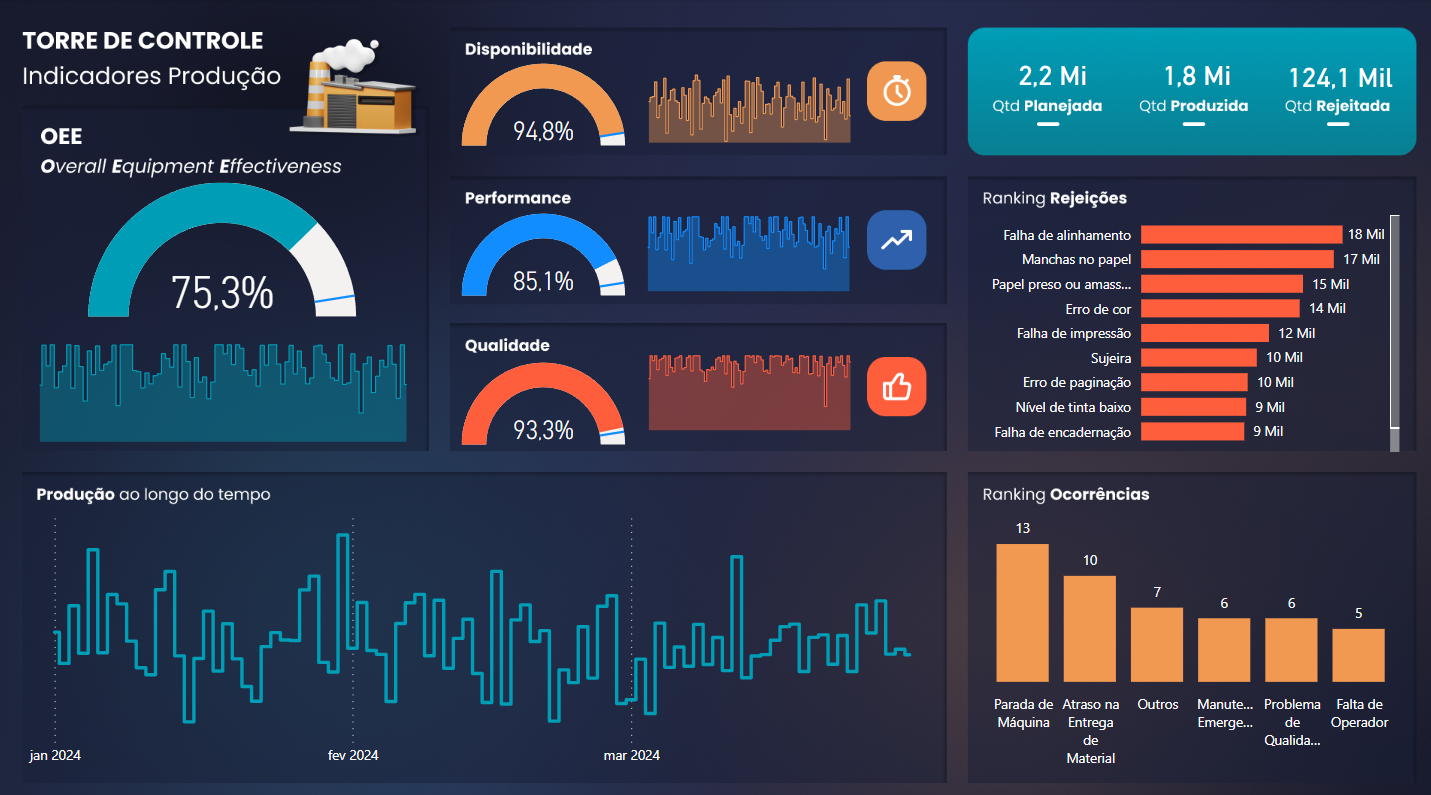

This screenshot's page, from the dashboard's own definition file:
{"tool":"powerbi","page":{"name":"Página 1","canvas":[1280,720],"ordinal":0},"visuals":[{"type":"clusteredBarChart","fields":{"Category":["Rejeicao.Motivo"],"Y":["Sum(Producao.Qtd Rejeitada)"]},"box":[862.5,178.8,383.8,227.5],"z":0},{"type":"clusteredColumnChart","fields":{"Category":["Ocorrencia.Motivo"],"Y":["CountNonNull(Producao.Ocorrências)"]},"box":[847.5,446.2,411.2,242.5],"z":1000},{"type":"lineChart","fields":{"Y":["Sum(Producao.Qtd Produzida)"],"Category":["Producao.Data.Variation.Hierarquia de datas.Ano","Producao.Data.Variation.Hierarquia de datas.Trimestre","Producao.Data.Variation.Hierarquia de datas.Mês","Producao.Data.Variation.Hierarquia de datas.Dia"]},"box":[21.2,446.2,816.2,242.5],"z":2000},{"type":"card","fields":{"Values":["Medidas Explícitas.Qtd Planejada"]},"box":[895,40,78.8,53.8],"z":3000},{"type":"card","fields":{"Values":["Medidas Explícitas.Qtd Produzida"]},"box":[1022.5,40,78.8,53.8],"z":4000},{"type":"card","fields":{"Values":["Medidas Explícitas.Qtd Rejeitada"]},"box":[1131.2,41.2,115,53.8],"z":5000},{"type":"gauge","fields":{"Y":["Medidas Explícitas.% de Performance"],"TargetValue":["Medidas Explícitas.Meta"]},"box":[405,178.8,155,95],"z":6000},{"type":"gauge","fields":{"Y":["Medidas Explícitas.% Qualidade"],"TargetValue":["Medidas Explícitas.Meta"]},"box":[405,311.2,155,95],"z":7000},{"type":"gauge","fields":{"Y":["Medidas Explícitas.% de Disponibilidade"],"TargetValue":["Medidas Explícitas.Meta"]},"box":[405,46.2,155,95],"z":8000},{"type":"areaChart","fields":{"Category":["Producao.Data.Variation.Hierarquia de datas.Ano","Producao.Data.Variation.Hierarquia de datas.Trimestre","Producao.Data.Variation.Hierarquia de datas.Mês","Producao.Data.Variation.Hierarquia de datas.Dia"],"Y":["Medidas Explícitas.% de Performance"]},"box":[21.2,292.5,355,105],"z":9000},{"type":"areaChart","fields":{"Category":["Producao.Data.Variation.Hierarquia de datas.Ano","Producao.Data.Variation.Hierarquia de datas.Trimestre","Producao.Data.Variation.Hierarquia de datas.Mês","Producao.Data.Variation.Hierarquia de datas.Dia"],"Y":["Medidas Explícitas.% Qualidade"]},"box":[561.2,302.5,208.8,85],"z":10000},{"type":"areaChart","fields":{"Category":["Producao.Data.Variation.Hierarquia de datas.Ano","Producao.Data.Variation.Hierarquia de datas.Trimestre","Producao.Data.Variation.Hierarquia de datas.Mês","Producao.Data.Variation.Hierarquia de datas.Dia"],"Y":["Medidas Explícitas.% de Disponibilidade"]},"box":[561.2,40,208.8,92.5],"z":11000},{"type":"gauge","fields":{"Y":["Medidas Explícitas.% OEE"],"TargetValue":["Medidas Explícitas.Meta"]},"box":[47.5,157.5,300,128.8],"z":12000},{"type":"areaChart","fields":{"Category":["Producao.Data.Variation.Hierarquia de datas.Ano","Producao.Data.Variation.Hierarquia de datas.Trimestre","Producao.Data.Variation.Hierarquia de datas.Mês","Producao.Data.Variation.Hierarquia de datas.Dia"],"Y":["Medidas Explícitas.% de Performance"]},"box":[560,178.8,208.8,85],"z":13000}]}

Visuals, with their boxes in screenshot pixels (x1, y1, x2, y2), scaled from the page's 1280x720 canvas onto the 1431x795 screenshot:
clusteredBarChart - Rejeicao.Motivo x Sum(Producao.Qtd Rejeitada): {"x1": 964, "y1": 197, "x2": 1393, "y2": 449}
clusteredColumnChart - Ocorrencia.Motivo x CountNonNull(Producao.Ocorrências): {"x1": 947, "y1": 493, "x2": 1407, "y2": 760}
lineChart - Sum(Producao.Qtd Produzida) x Producao.Data.Variation.Hierarquia de datas.Ano: {"x1": 24, "y1": 493, "x2": 936, "y2": 760}
card - Medidas Explícitas.Qtd Planejada: {"x1": 1001, "y1": 44, "x2": 1089, "y2": 104}
card - Medidas Explícitas.Qtd Produzida: {"x1": 1143, "y1": 44, "x2": 1231, "y2": 104}
card - Medidas Explícitas.Qtd Rejeitada: {"x1": 1265, "y1": 45, "x2": 1393, "y2": 105}
gauge - Medidas Explícitas.% de Performance x Medidas Explícitas.Meta: {"x1": 453, "y1": 197, "x2": 626, "y2": 302}
gauge - Medidas Explícitas.% Qualidade x Medidas Explícitas.Meta: {"x1": 453, "y1": 344, "x2": 626, "y2": 449}
gauge - Medidas Explícitas.% de Disponibilidade x Medidas Explícitas.Meta: {"x1": 453, "y1": 51, "x2": 626, "y2": 156}
areaChart - Producao.Data.Variation.Hierarquia de datas.Ano x Producao.Data.Variation.Hierarquia de datas.Trimestre: {"x1": 24, "y1": 323, "x2": 421, "y2": 439}
areaChart - Producao.Data.Variation.Hierarquia de datas.Ano x Producao.Data.Variation.Hierarquia de datas.Trimestre: {"x1": 627, "y1": 334, "x2": 861, "y2": 428}
areaChart - Producao.Data.Variation.Hierarquia de datas.Ano x Producao.Data.Variation.Hierarquia de datas.Trimestre: {"x1": 627, "y1": 44, "x2": 861, "y2": 146}
gauge - Medidas Explícitas.% OEE x Medidas Explícitas.Meta: {"x1": 53, "y1": 174, "x2": 388, "y2": 316}
areaChart - Producao.Data.Variation.Hierarquia de datas.Ano x Producao.Data.Variation.Hierarquia de datas.Trimestre: {"x1": 626, "y1": 197, "x2": 859, "y2": 291}
